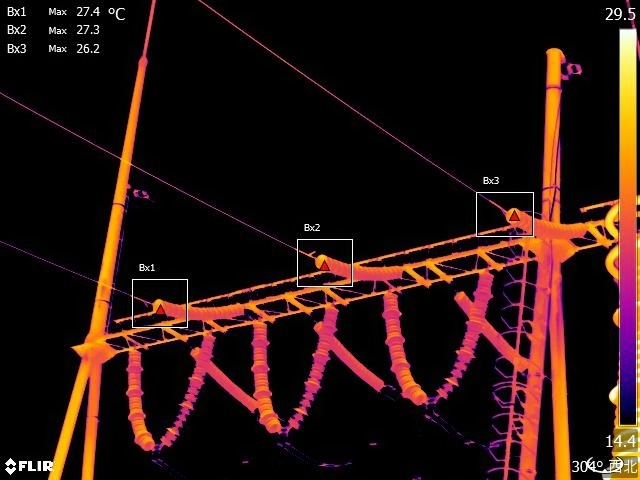insulator: (438, 265, 495, 402), (456, 283, 531, 378), (287, 300, 338, 434), (162, 323, 214, 445), (382, 289, 430, 405), (314, 317, 382, 390), (189, 341, 255, 415), (497, 202, 591, 242), (123, 346, 158, 453), (251, 319, 282, 438), (308, 250, 406, 283), (146, 301, 246, 323)
